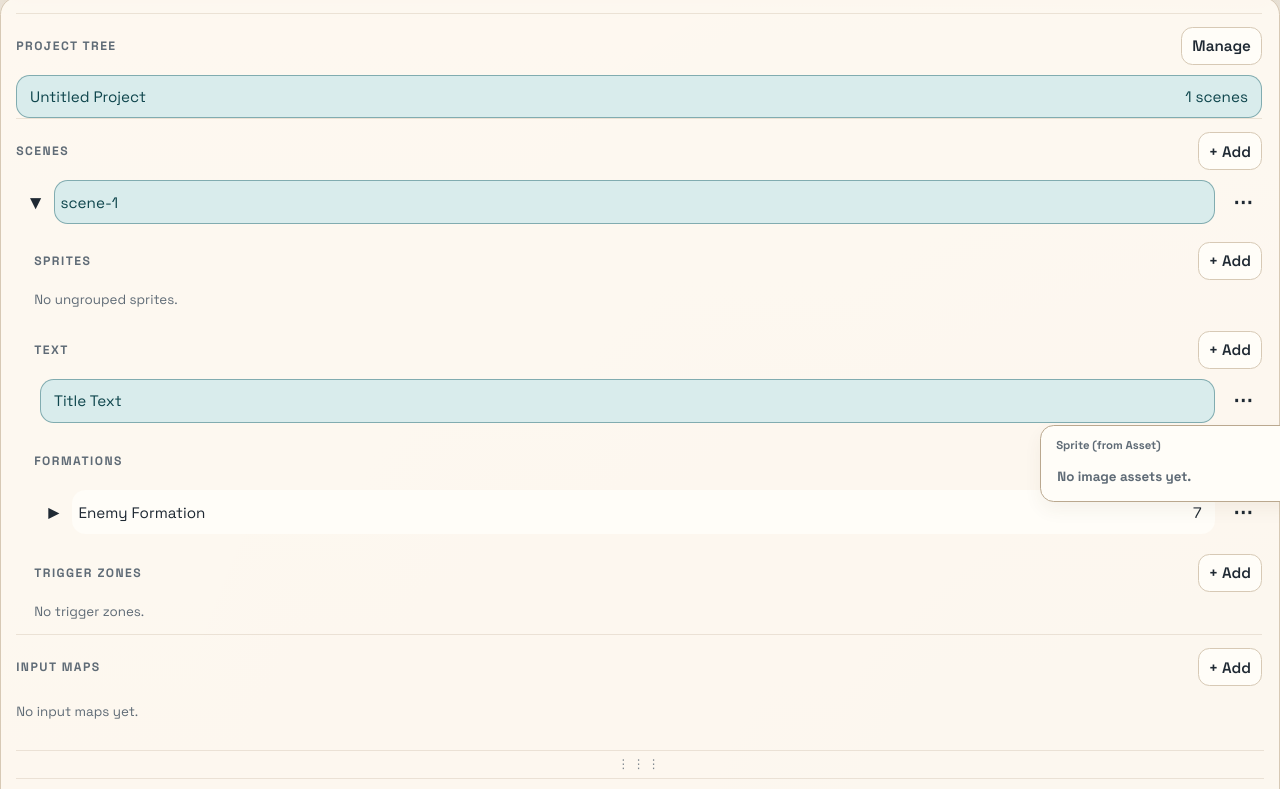
Scenario: EntityList Sprites + Add › enters rename mode when clicking an already-selected text entity row
(page scrolled)
Click the button with test id "text-entity-t1": {"x": 88, "y": 401} [40,379,1216,423]
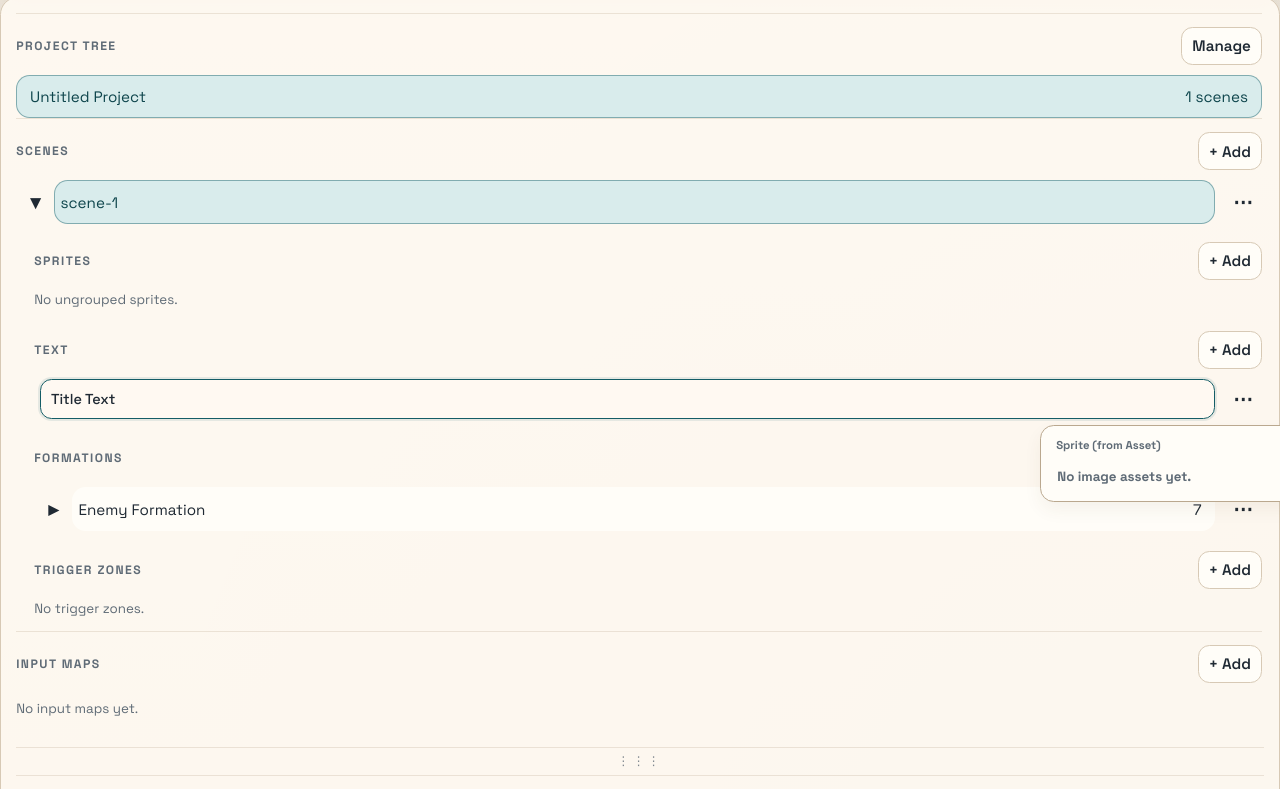
Result: the field with test id "rename-entity-input-t1" is shown at [40,379,1216,420]
